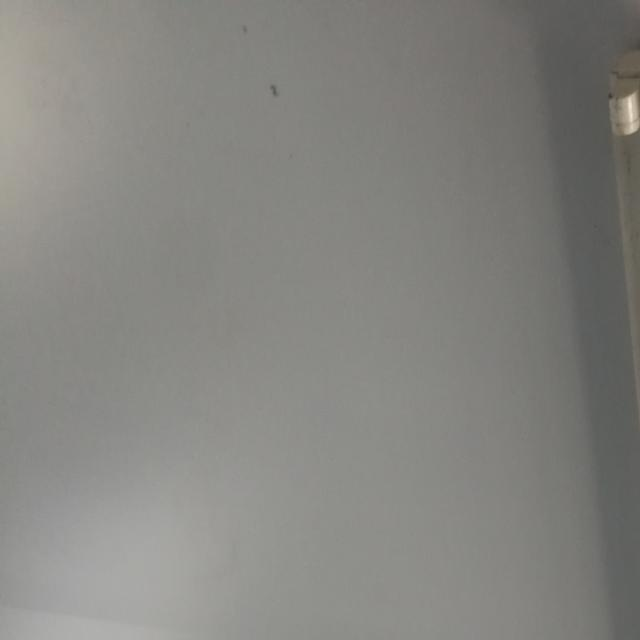fluorescent tube: (569, 19, 640, 640)
